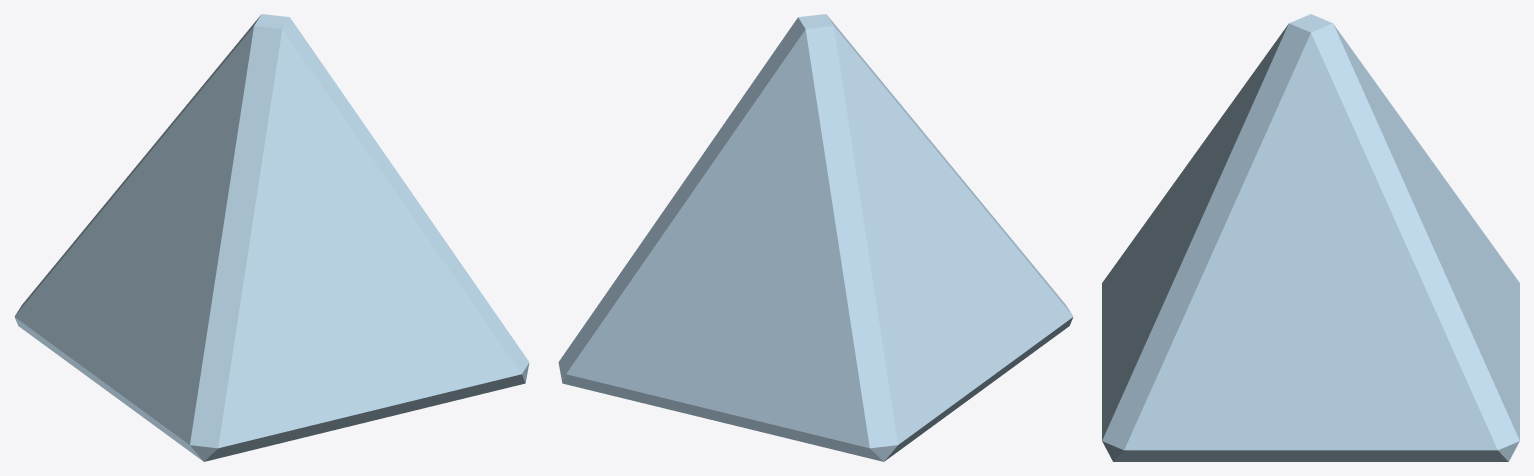
The picture shows the model from 3 angles, left to right: view 1: azimuth 30°, elevation 25°; view 2: azimuth 150°, elevation 25°; view 3: azimuth 270°, elevation 25°; orthographic projection. The views are drawn at different scales.
Parts seen in each view (by area): view 1: R4B_Pyramid_LOD1; view 2: R4B_Pyramid_LOD1; view 3: R4B_Pyramid_LOD1.
Part boxes in pixels (x1,y1,x2,y2): R4B_Pyramid_LOD1: (14,14,529,461); R4B_Pyramid_LOD1: (558,14,1073,461); R4B_Pyramid_LOD1: (1102,14,1519,461).
Bounding box in the file's own units: 0.4985 × 0.4674 × 0.4985.
